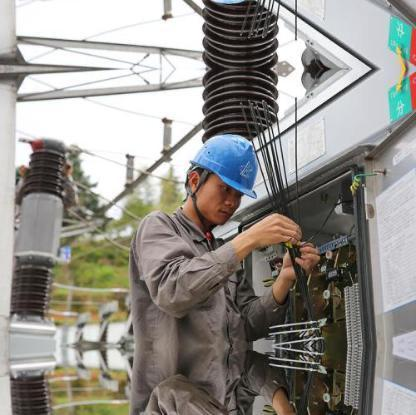helmet: (188, 128, 268, 199)
